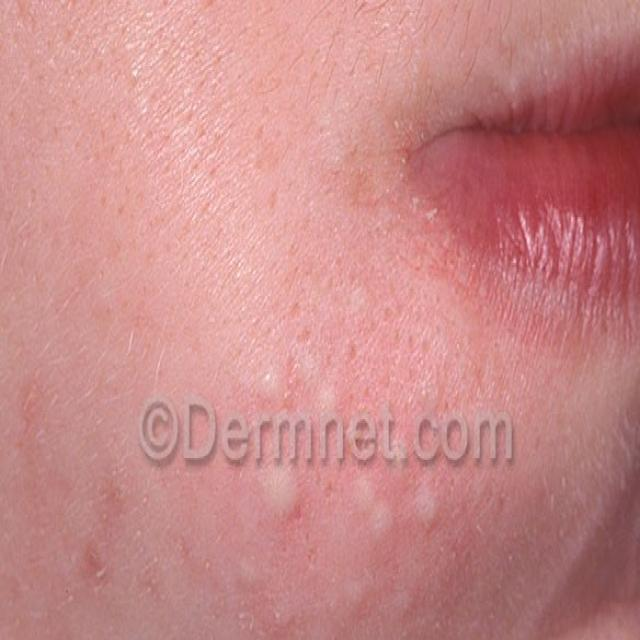Acne: (245, 458, 459, 570), (63, 451, 150, 639), (251, 343, 355, 416), (1, 340, 56, 455), (319, 265, 397, 341)
